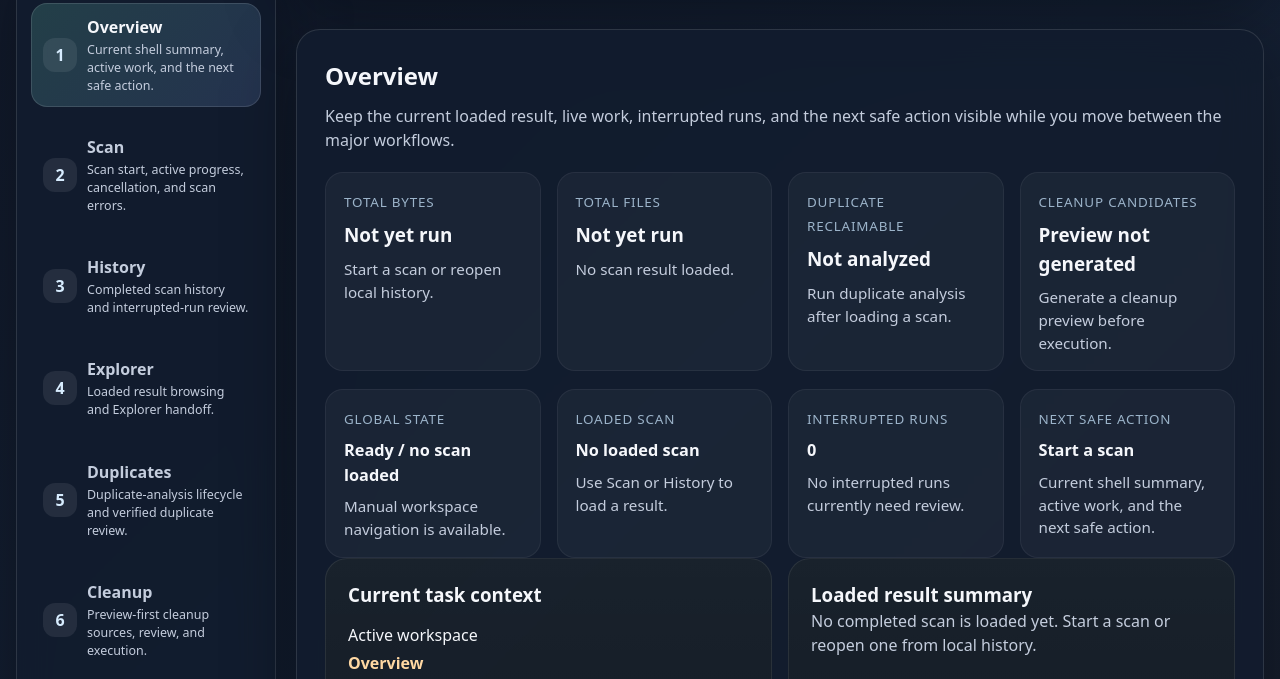
Test: Space Sift cleanup workflow › builds a cleanup preview from duplicate selections and enabled rules
(page scrolled)
Step 1. Click the tab "Cleanup" → (146, 620), box x1=31 y1=568 x2=261 y2=672
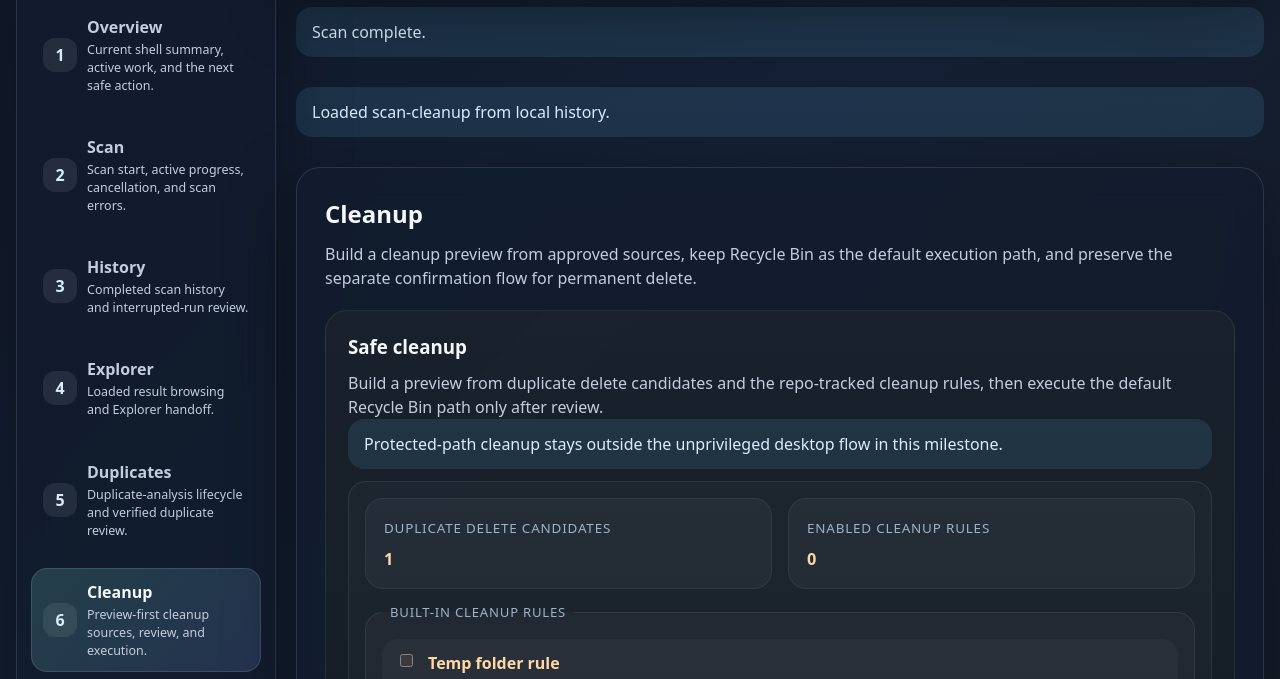
Now the tab "Cleanup" is selected, box x1=31 y1=568 x2=261 y2=672
Step 2. Click the checkbox named "files in temp folders" → (406, 660), box x1=400 y1=654 x2=413 y2=667
(page scrolled)
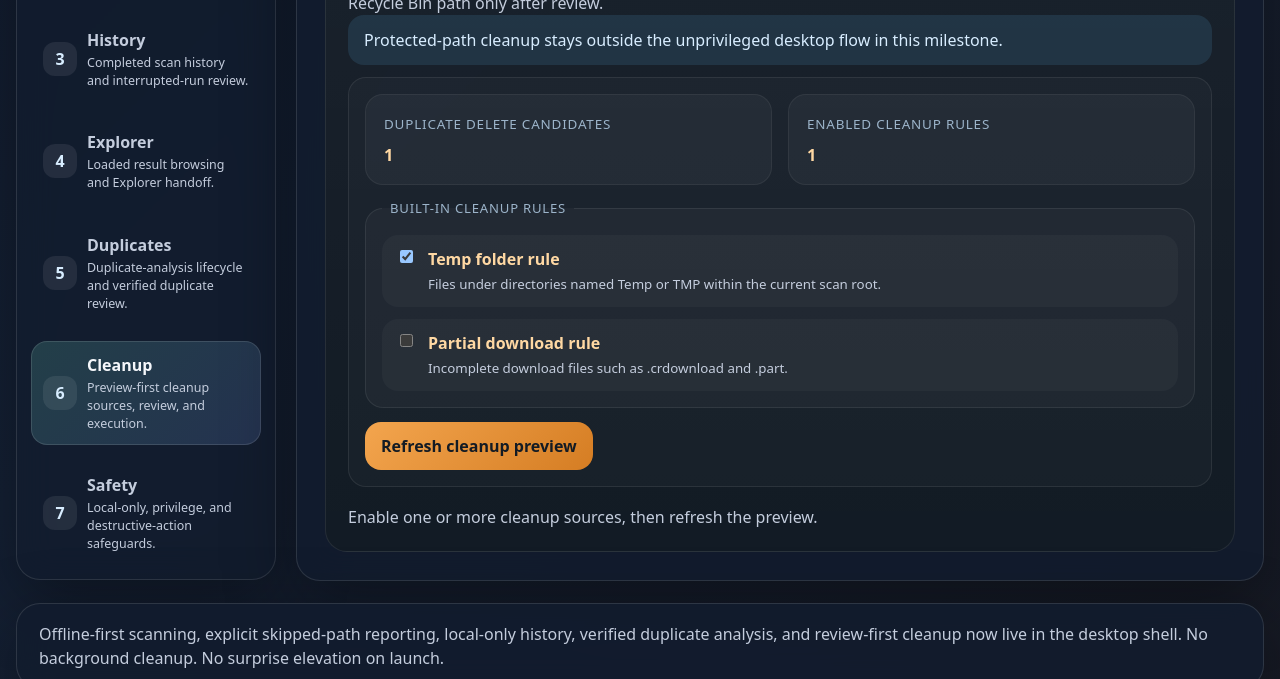
Step 3. Click the button "Refresh cleanup preview" → (479, 446), box x1=365 y1=422 x2=593 y2=470
(page scrolled)
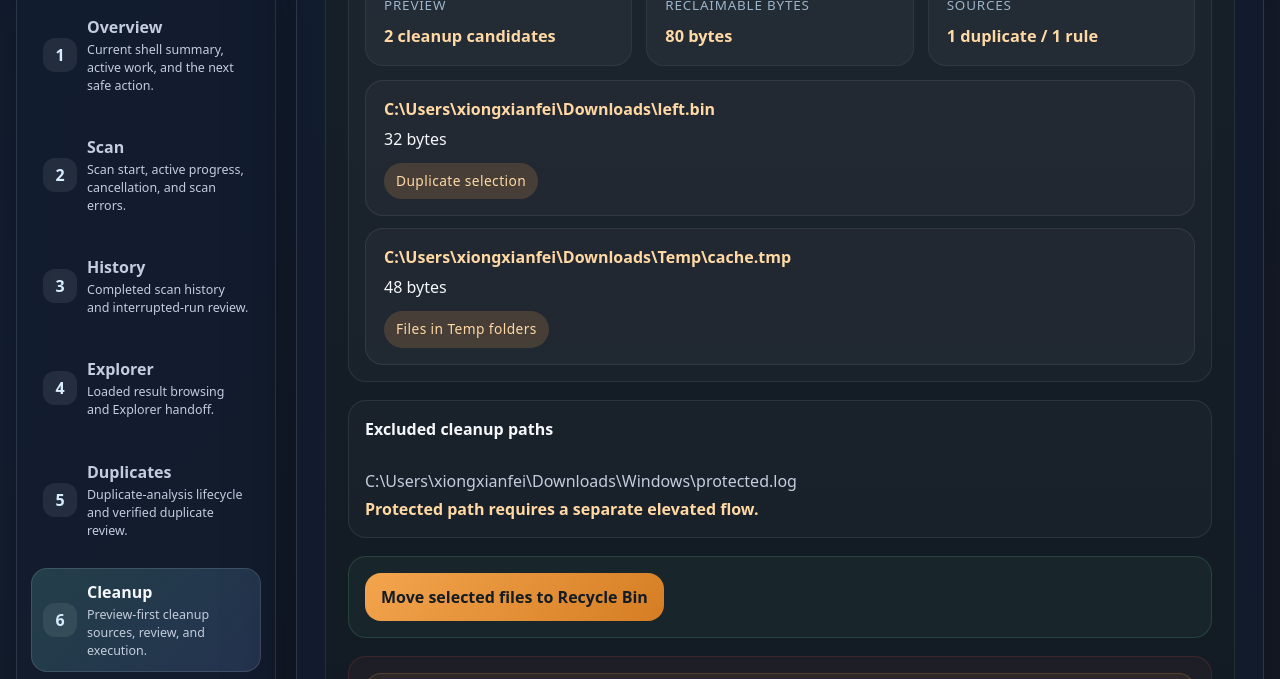
Now the text "2 cleanup candidates" is shown, box x1=384 y1=25 x2=556 y2=47
Now the text "80 bytes" is shown, box x1=665 y1=25 x2=732 y2=47
Now the text "Duplicate selection" is shown, box x1=384 y1=163 x2=538 y2=199
